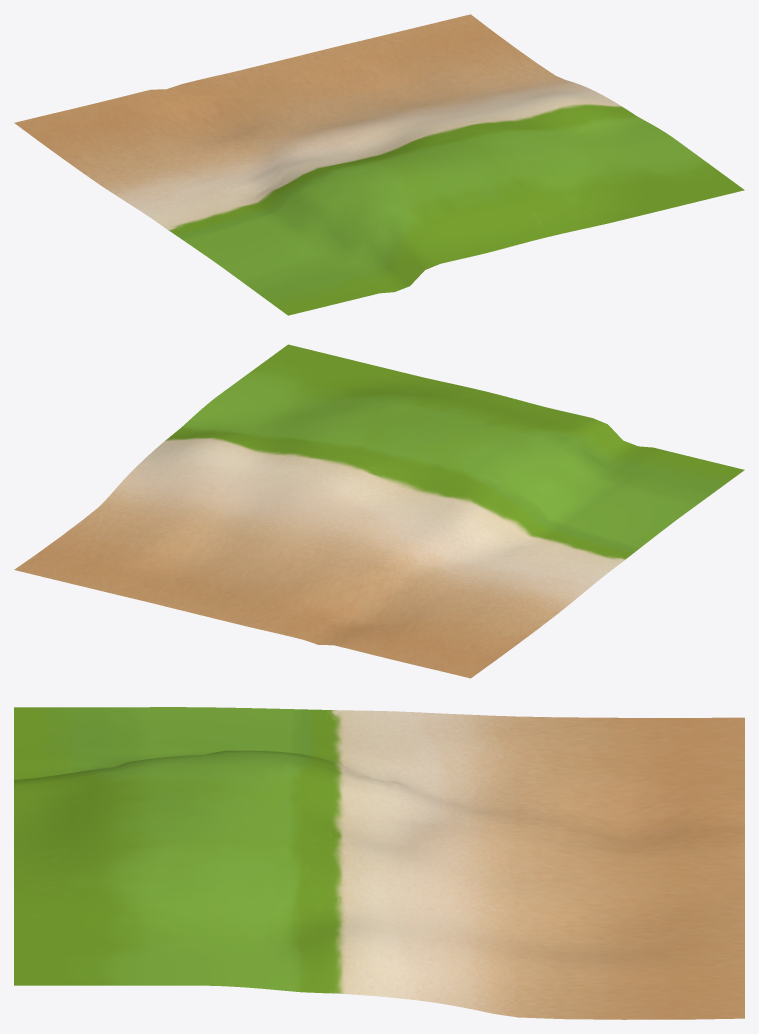
File: dix.FBX
3 views of the same model, one above another, from view 1: azimuth 30°, elevation 25°; view 2: azimuth 150°, elevation 25°; view 3: azimuth 270°, elevation 25° (orthographic). The views are drawn at different scales.
Parts seen in each view (by area): view 1: dix; view 2: dix; view 3: dix.
Boxes of the visible parts, x1,y1,x2,y2 form: dix: (14, 14, 744, 315); dix: (14, 344, 744, 678); dix: (14, 707, 744, 1019).
Bounding box in the file's own units: 333 × 346 × 40.54.
1 material, 1 textured.
